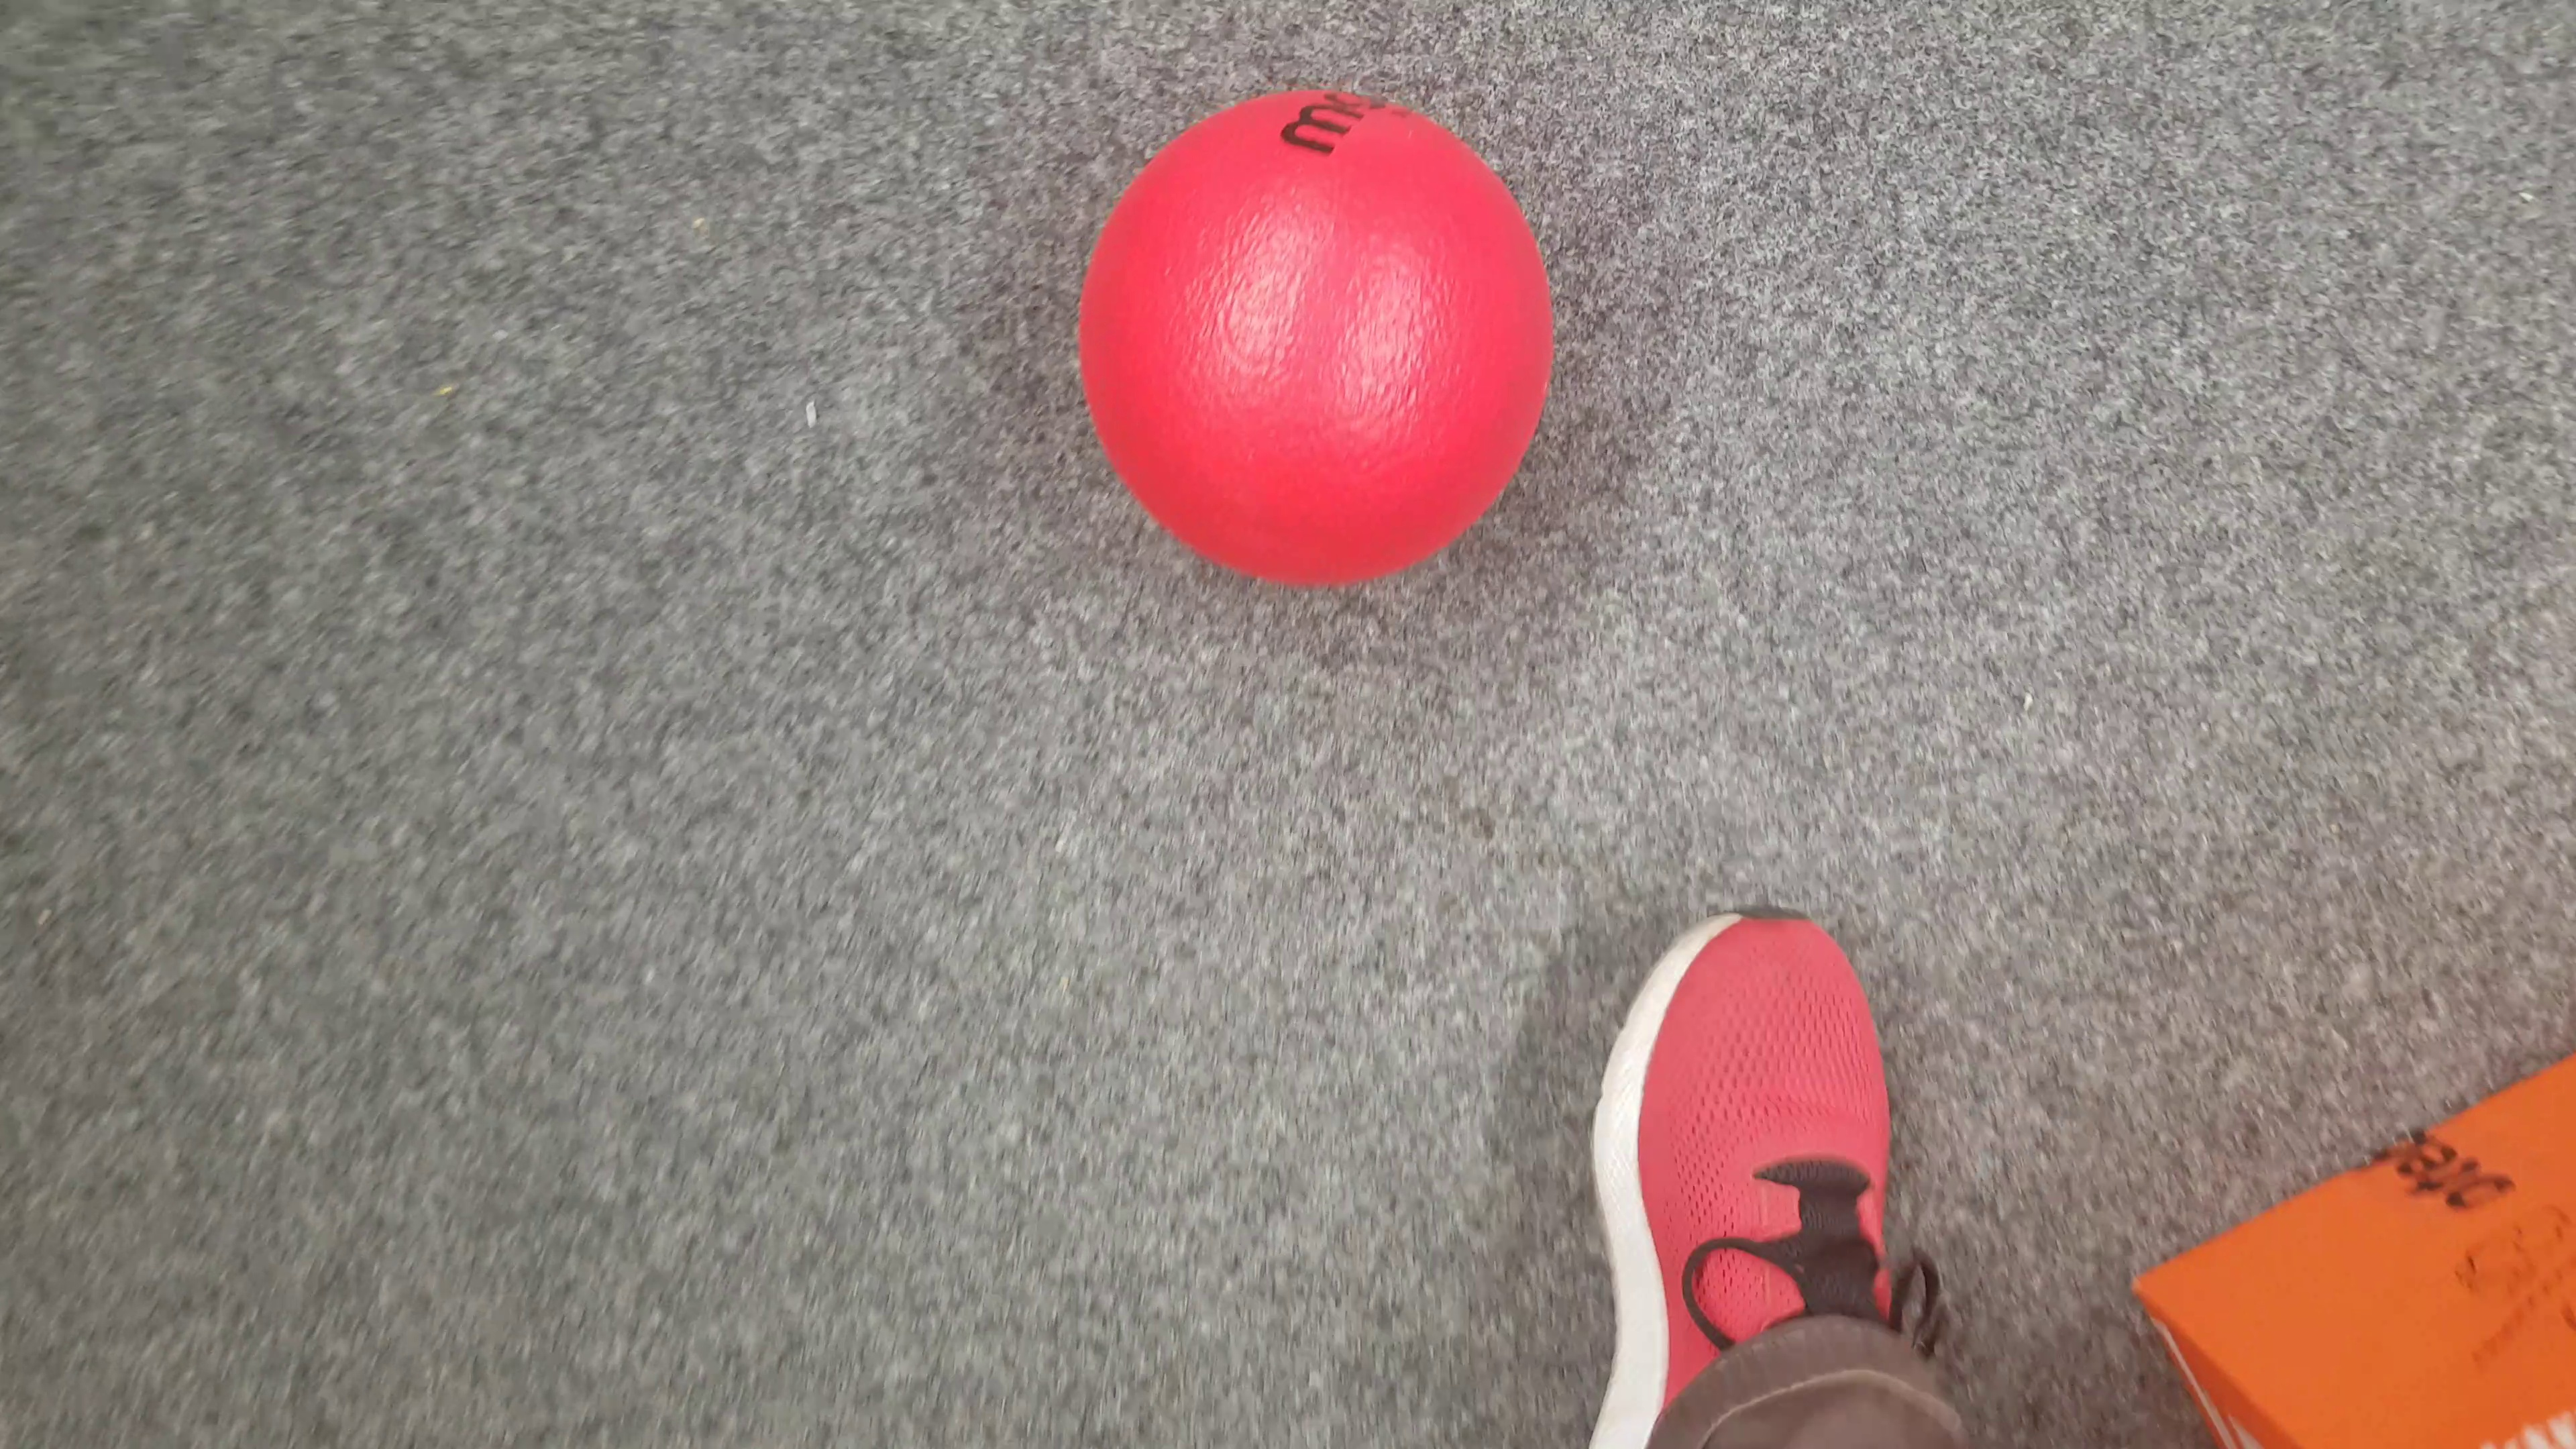kick: (1093, 88, 1553, 593)
push: (2132, 1030, 2576, 1426)
